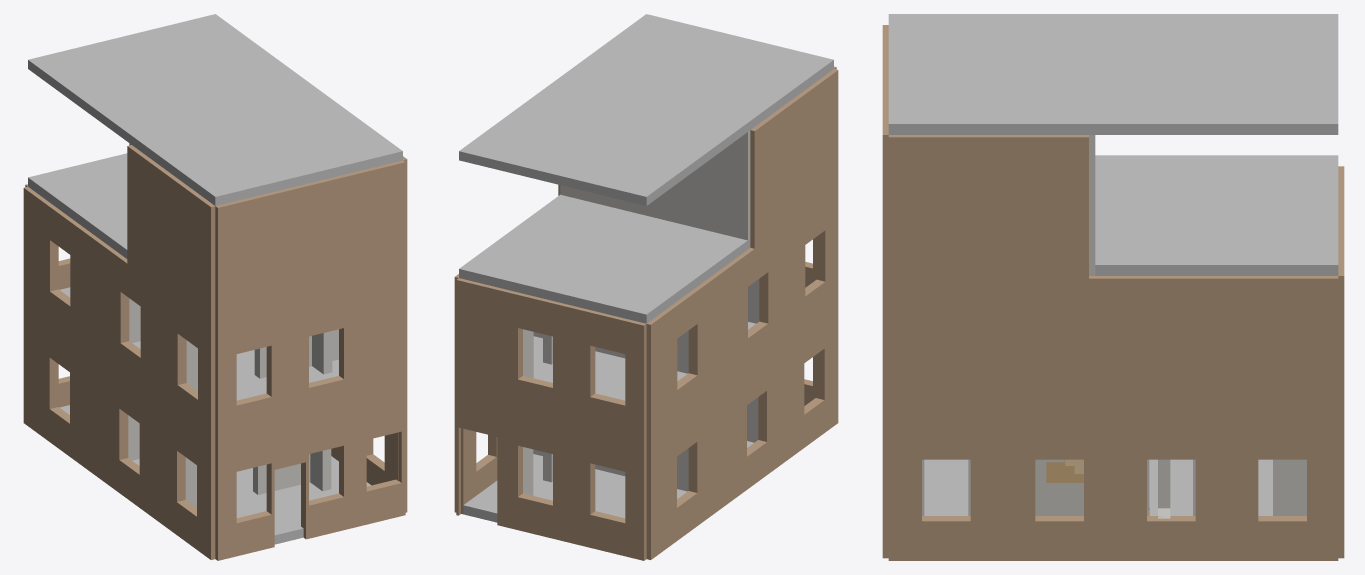
Rendered from victorian_terrace_georgian_s42.glb.
3 views of the same model, side by side, from view 1: azimuth 30°, elevation 25°; view 2: azimuth 150°, elevation 25°; view 3: azimuth 270°, elevation 25° (orthographic). The views are drawn at different scales.
Visible parts, largest first — view 1: ceiling_slab, floor_2_wall_1, floor_1_wall_13, floor_0_wall_12, floor_2_wall_2, floor_1_wall_2, floor_0_wall_2, floor_1_wall_9, floor_0_wall_10, floor_2_slab, floor_0_wall_13, floor_1_wall_14 (+10 smaller); view 2: ceiling_slab, floor_2_slab, floor_1_wall_3, floor_0_wall_3, floor_2_wall_2, floor_1_wall_2, floor_0_wall_2, floor_1_wall_9, floor_0_wall_10, floor_2_wall_3, floor_0_wall_13, floor_1_wall_6 (+9 smaller); view 3: ceiling_slab, floor_0_wall_4, floor_2_slab, floor_2_wall_4, floor_1_wall_4, floor_1_wall_10, floor_1_wall_15, floor_0_wall_14, floor_0_wall_16, floor_0_slab, floor_0_wall_6, floor_0_wall_8 (+11 smaller).
Boxes of the visible parts, x1,y1,x2,y2 form: ceiling_slab: [28, 14, 402, 205]; floor_2_wall_1: [215, 171, 362, 325]; floor_1_wall_13: [215, 290, 362, 443]; floor_0_wall_12: [215, 408, 362, 560]; floor_2_wall_2: [127, 145, 215, 324]; floor_1_wall_2: [23, 186, 100, 357]; floor_0_wall_2: [23, 306, 96, 475]; floor_1_wall_9: [96, 240, 164, 408]; floor_0_wall_10: [96, 359, 162, 524]; floor_2_slab: [28, 153, 127, 258]; floor_0_wall_13: [163, 407, 215, 559]; floor_1_wall_14: [164, 291, 215, 442]; ceiling_slab: [459, 14, 833, 205]; floor_2_slab: [459, 194, 750, 323]; floor_1_wall_3: [499, 288, 646, 443]; floor_0_wall_3: [499, 408, 646, 560]; floor_2_wall_2: [750, 69, 838, 248]; floor_1_wall_2: [646, 270, 723, 442]; floor_0_wall_2: [646, 389, 723, 559]; floor_1_wall_9: [719, 222, 791, 388]; floor_0_wall_10: [723, 341, 790, 506]; floor_2_wall_3: [603, 130, 750, 246]; floor_0_wall_13: [790, 306, 838, 457]; floor_1_wall_6: [456, 278, 501, 407]; ceiling_slab: [888, 14, 1338, 134]; floor_0_wall_4: [1004, 419, 1338, 560]; floor_2_slab: [1095, 155, 1338, 275]; floor_2_wall_4: [888, 135, 1088, 278]; floor_1_wall_4: [1163, 276, 1338, 419]; floor_1_wall_10: [999, 276, 1163, 419]; floor_1_wall_15: [888, 278, 999, 419]; floor_0_wall_14: [888, 419, 1003, 560]; floor_0_wall_16: [1005, 419, 1163, 560]; floor_0_slab: [924, 459, 1272, 515]; floor_0_wall_6: [1035, 459, 1306, 515]; floor_0_wall_8: [1035, 459, 1149, 515].
Bounding box in the file's own units: 5.84 × 10.67 × 9.74.
